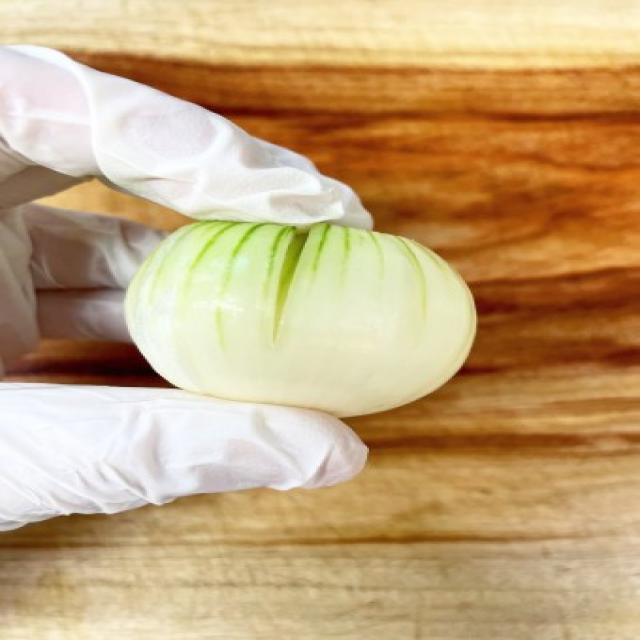onion: (108, 202, 521, 426)
